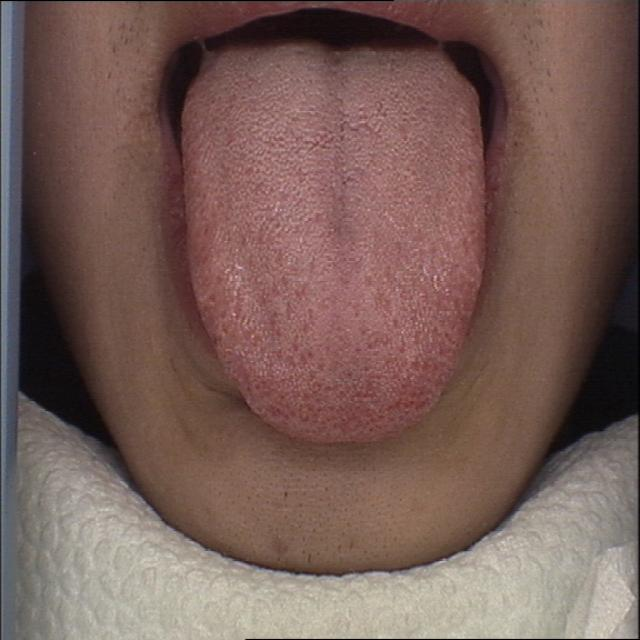tongue: (174, 41, 498, 448)
